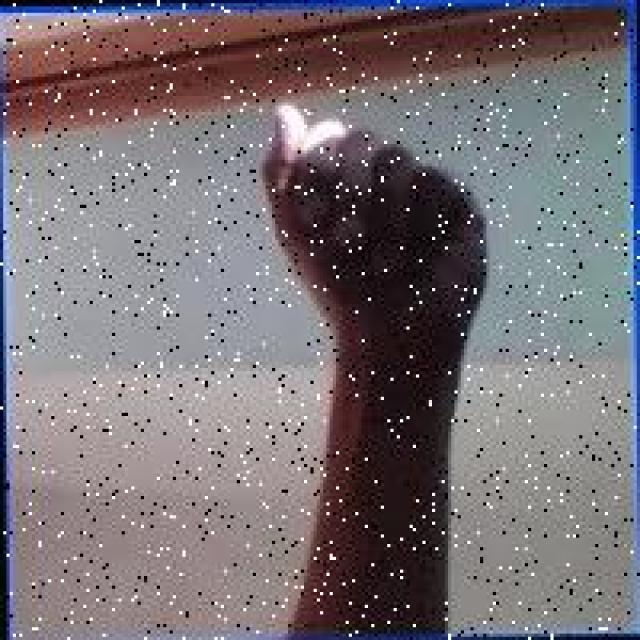A: (253, 90, 486, 371)
